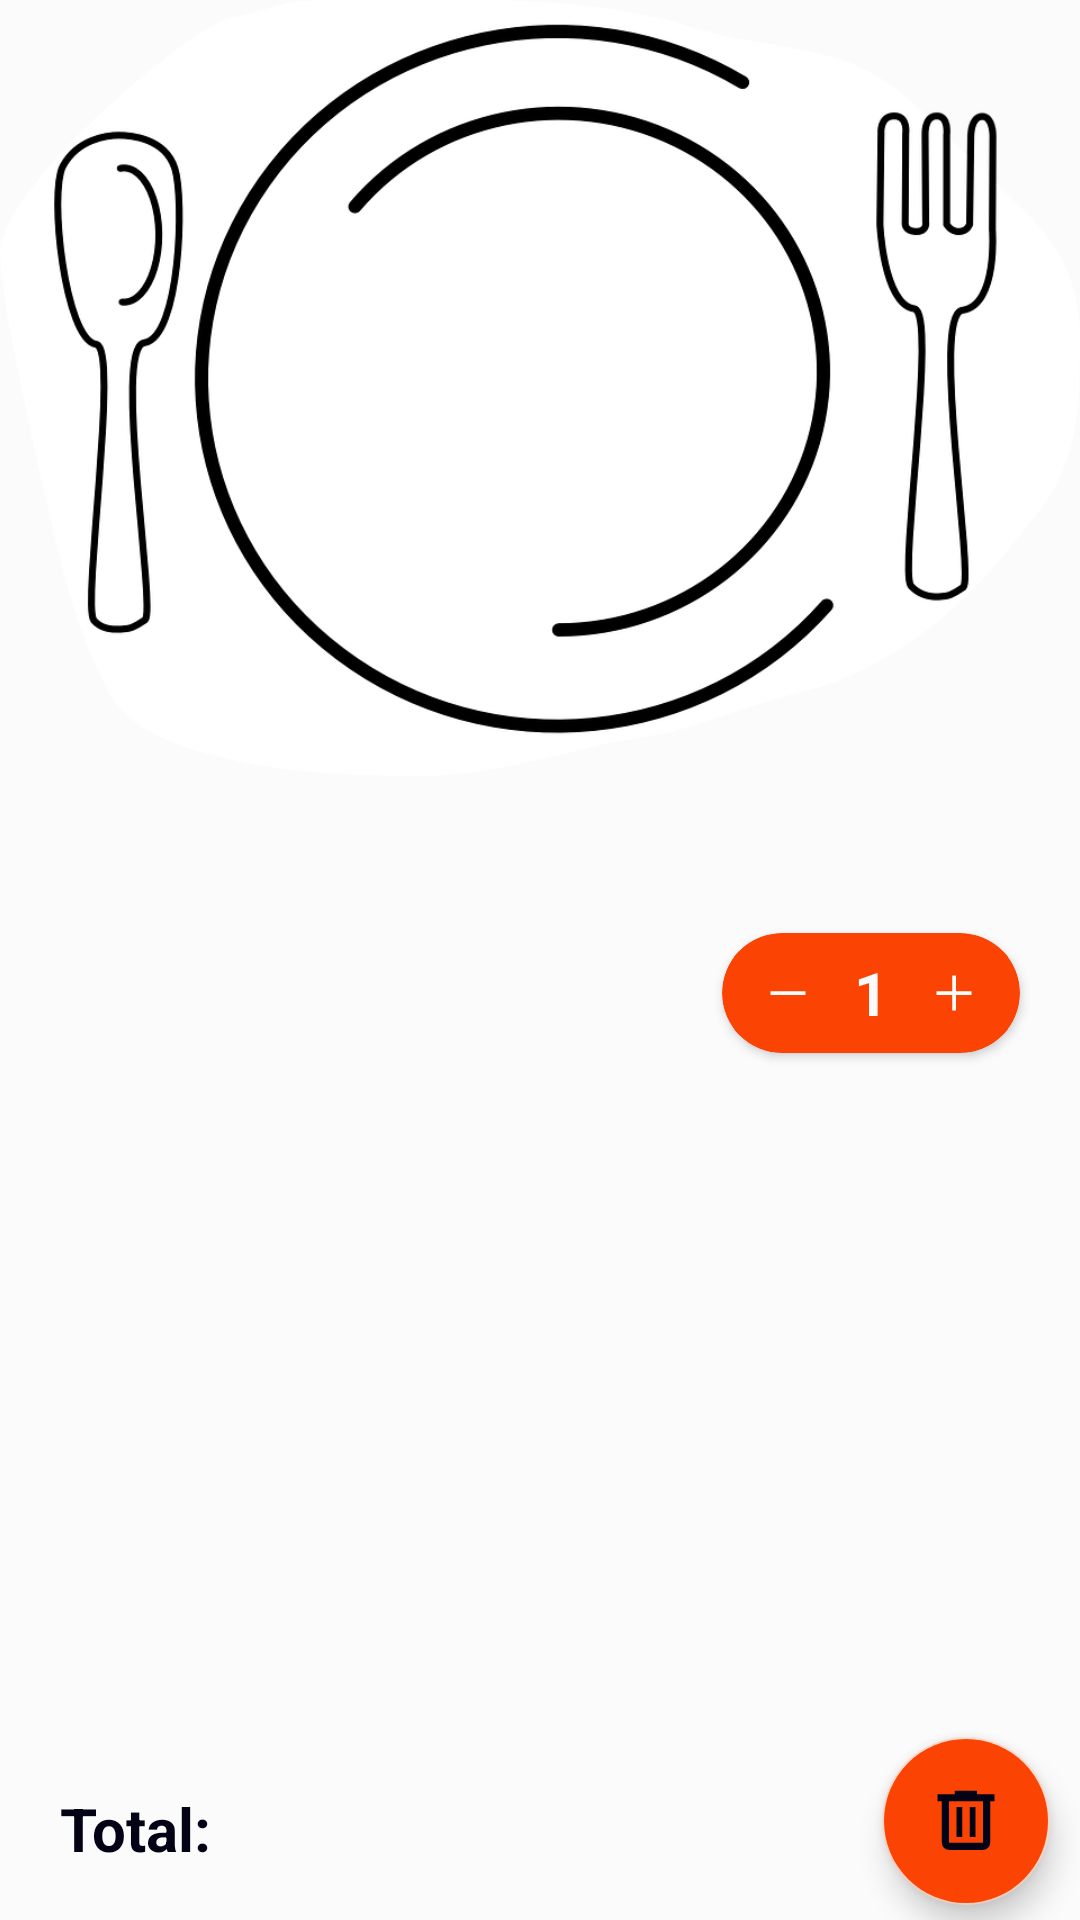

Point at icon controls on the screen. Image size 1080*1920, points as [x,y].
Delete: [966,1821]
Less: [788,993]
More: [954,993]
